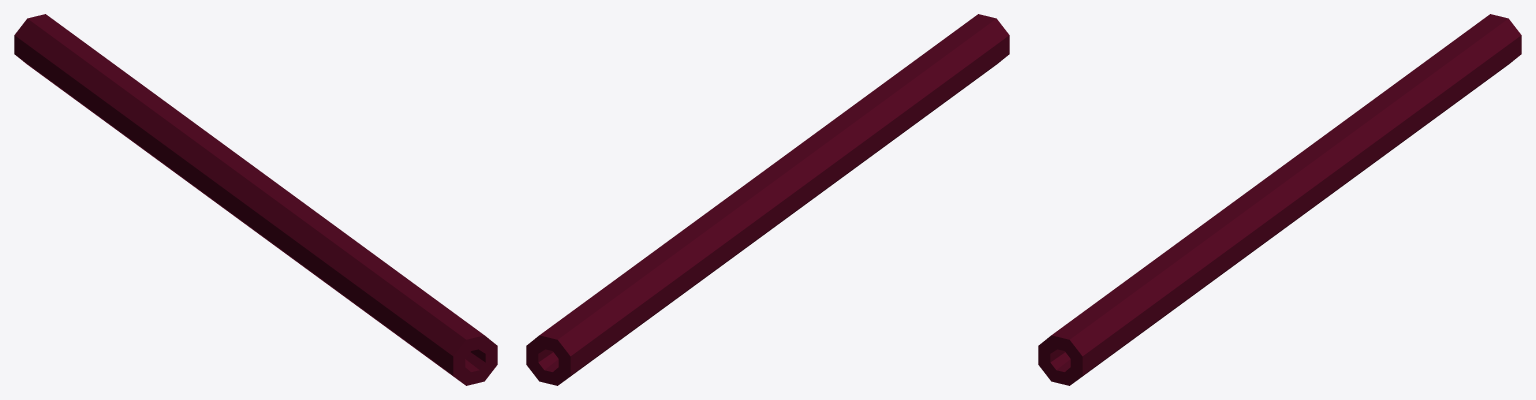
File: SM_Prop_Pool_Float_Noodle_01.obj
3 renders of one model, left to right at view 1: azimuth 30°, elevation 25°; view 2: azimuth 150°, elevation 25°; view 3: azimuth 330°, elevation 25°, orthographic.
Visible parts, largest first — view 1: SM_Prop_Pool_Float_Noodle_01_0; view 2: SM_Prop_Pool_Float_Noodle_01_0; view 3: SM_Prop_Pool_Float_Noodle_01_0.
Part boxes in pixels (left/top/right/bottom): SM_Prop_Pool_Float_Noodle_01_0: left=14, top=14, right=497, bottom=385; SM_Prop_Pool_Float_Noodle_01_0: left=526, top=14, right=1009, bottom=385; SM_Prop_Pool_Float_Noodle_01_0: left=1038, top=14, right=1521, bottom=385.
Size of the model in its own units: 0.1581 by 0.1581 by 2.72.
